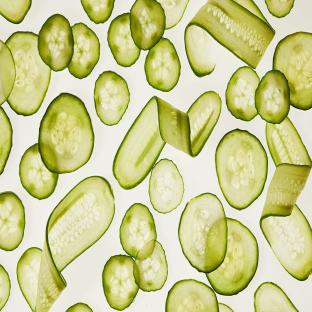Cucumber: (19, 177, 114, 311), (113, 92, 220, 188), (260, 118, 311, 280), (185, 0, 274, 76), (39, 94, 93, 173), (216, 130, 267, 209), (178, 193, 228, 273), (207, 218, 258, 295), (261, 206, 311, 280), (6, 32, 50, 115), (273, 32, 311, 110), (187, 91, 221, 156), (266, 118, 311, 165), (20, 144, 58, 199), (38, 14, 74, 71), (120, 204, 156, 258), (103, 255, 138, 310), (94, 71, 129, 125), (149, 159, 184, 213), (145, 38, 180, 91), (255, 70, 290, 123), (226, 67, 260, 121), (68, 23, 100, 78), (108, 13, 140, 66), (134, 241, 167, 291), (166, 280, 218, 311), (185, 25, 215, 77), (17, 248, 41, 311), (0, 192, 25, 250), (254, 282, 298, 311), (0, 40, 15, 105), (0, 107, 12, 174), (0, 265, 10, 310), (67, 303, 92, 311), (219, 304, 233, 311)
